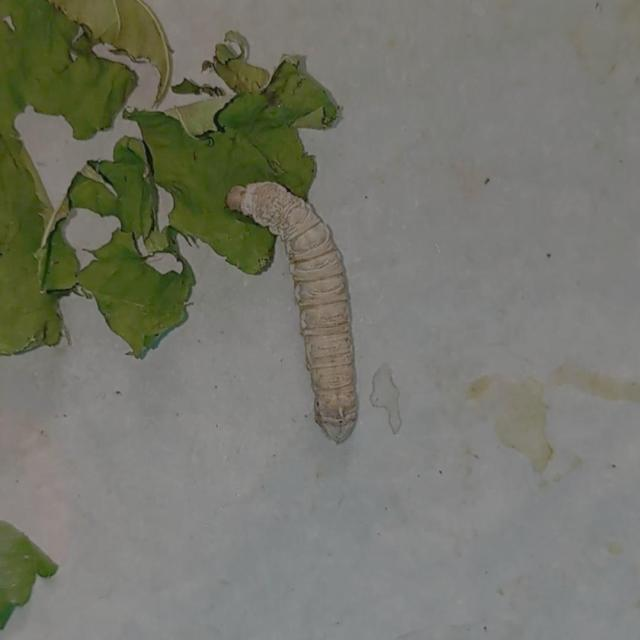Grasserie: (222, 170, 384, 452)
